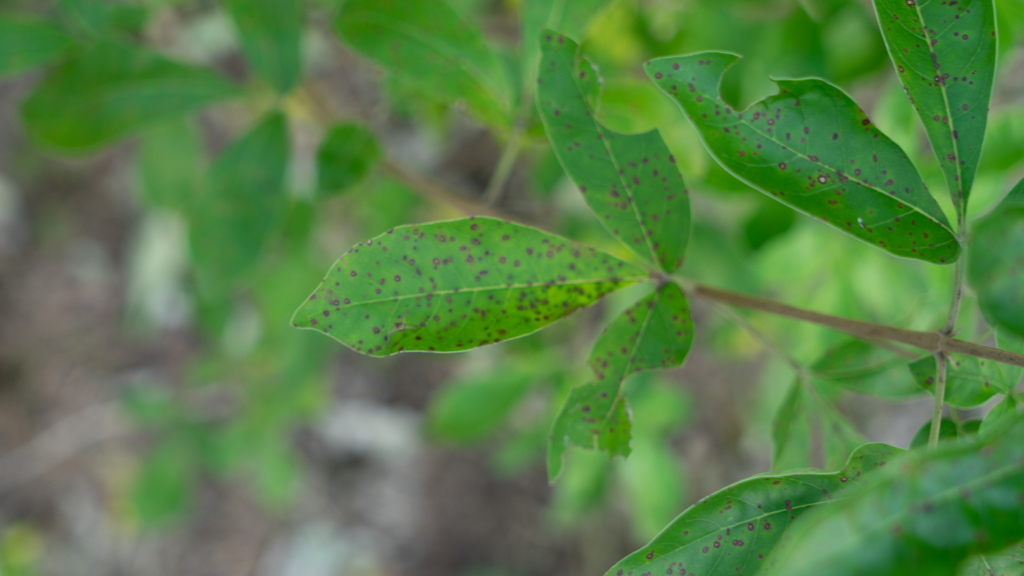Alternaria brassicicola: (663, 30, 942, 265), (282, 216, 600, 362), (607, 443, 909, 571), (533, 31, 690, 264), (547, 284, 697, 483), (900, 0, 982, 219)
